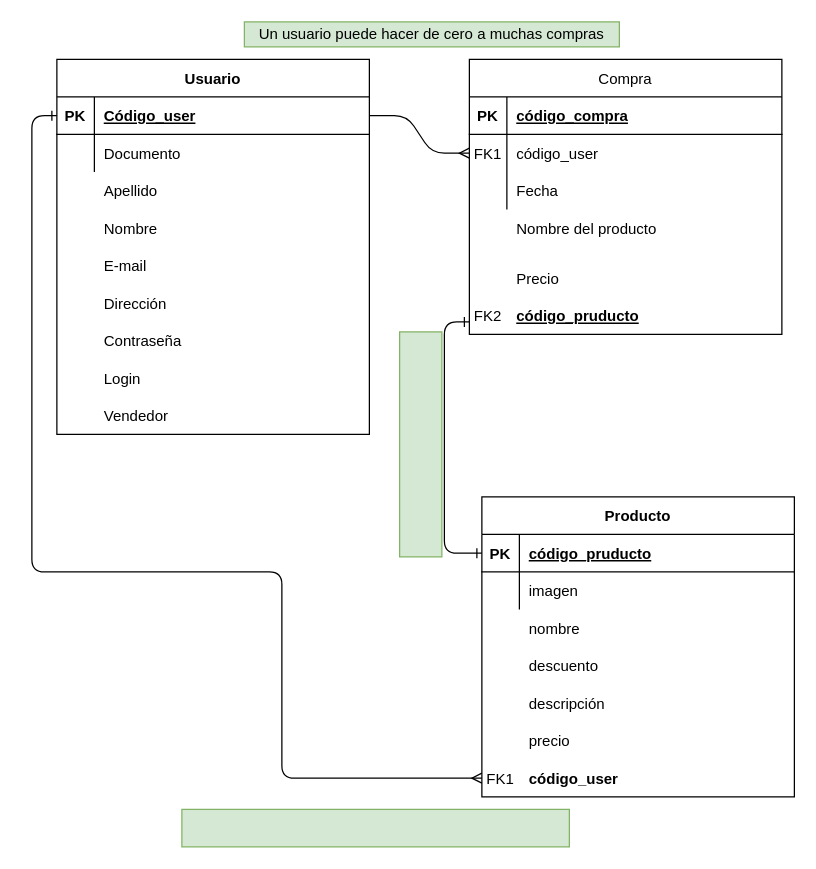
Some shapes in this 816 by 869 pixel diagram are drawn without their labels. Here are the shapes that lost their labels. From the top down, the centre of each, then its label:
At [420,444]: "Una compra puede tener entre uno y muchos produtos".
At [375,827]: "Un usuario puede proporcionar entre uno y muchos productos".
